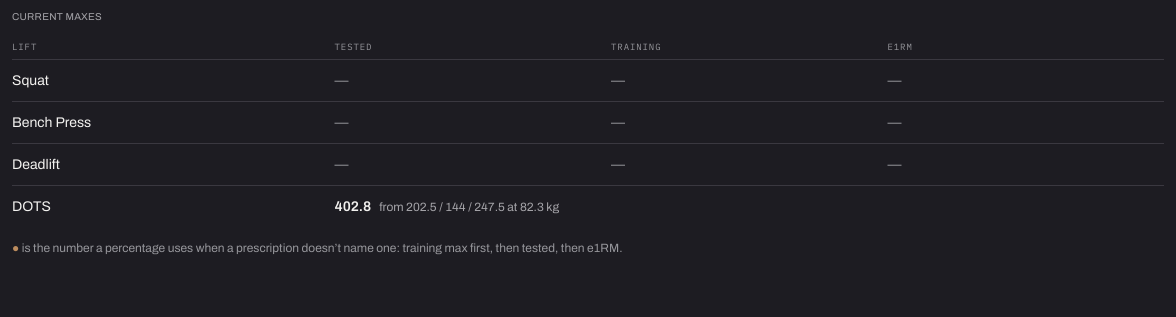
Test: DOTS, in the same table › is read again after a save, so a new max moves the score
Click the button named "Set tested for Bench Press".
click(342, 122)  # box [330, 108, 352, 137]
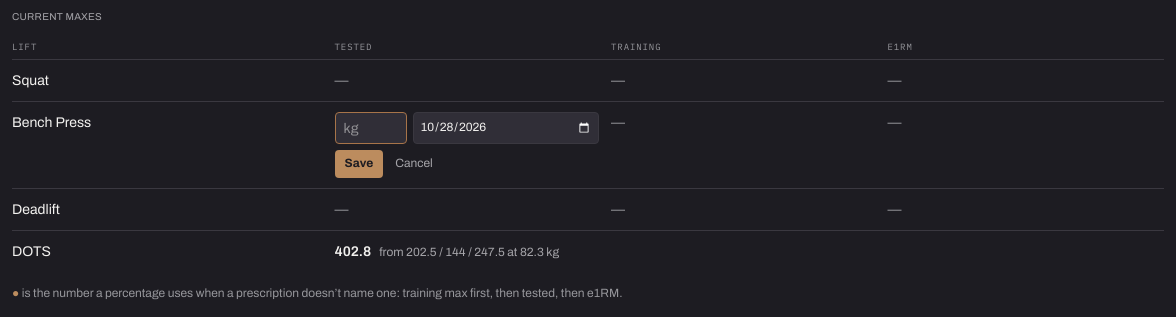
Type "150" into the field named "tested for Bench Press, kg".
click(370, 128); type("150")  # box [334, 112, 406, 144]
Then press Enter
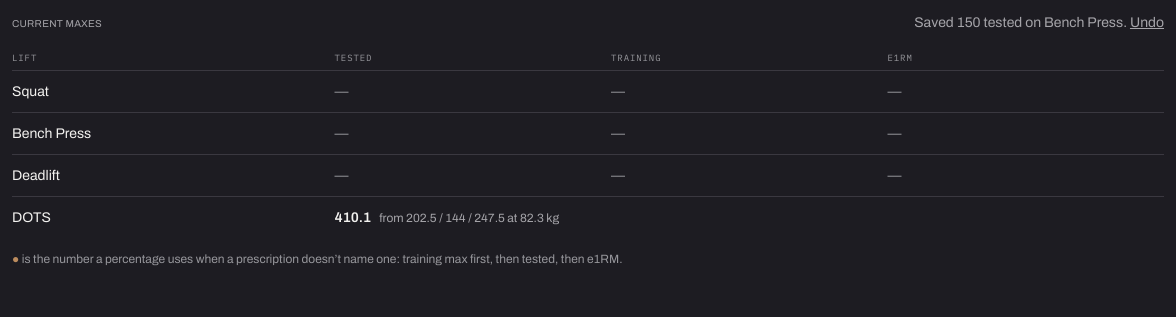
Check: the text "410.1" is shown, box [334, 207, 371, 228]
